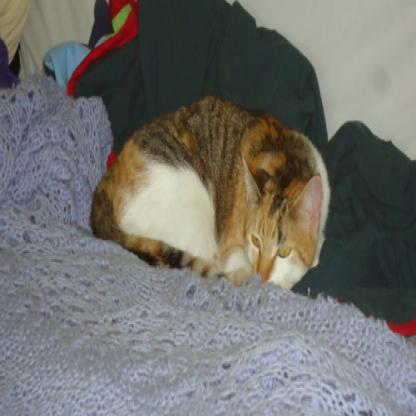Target: (89, 91, 324, 304)
